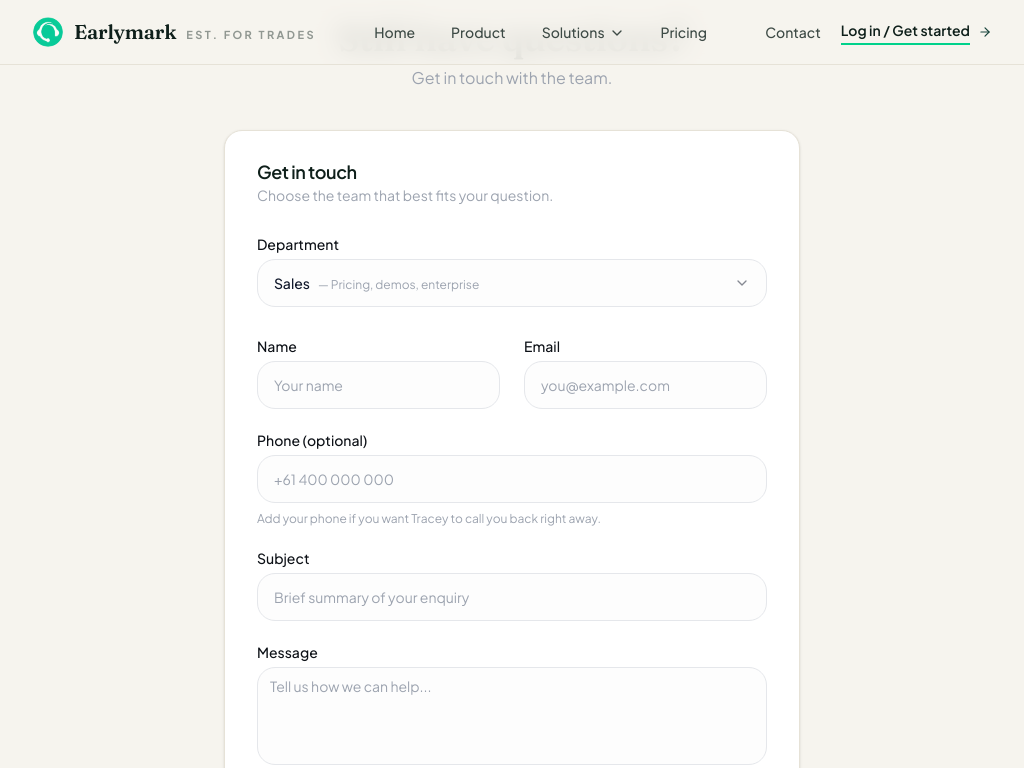
pricing contact form › shows request errors on the pricing-page form
(page scrolled)
In the field labelled "Name": [378, 385] box [257, 361, 500, 409], type "Miguel Wu"
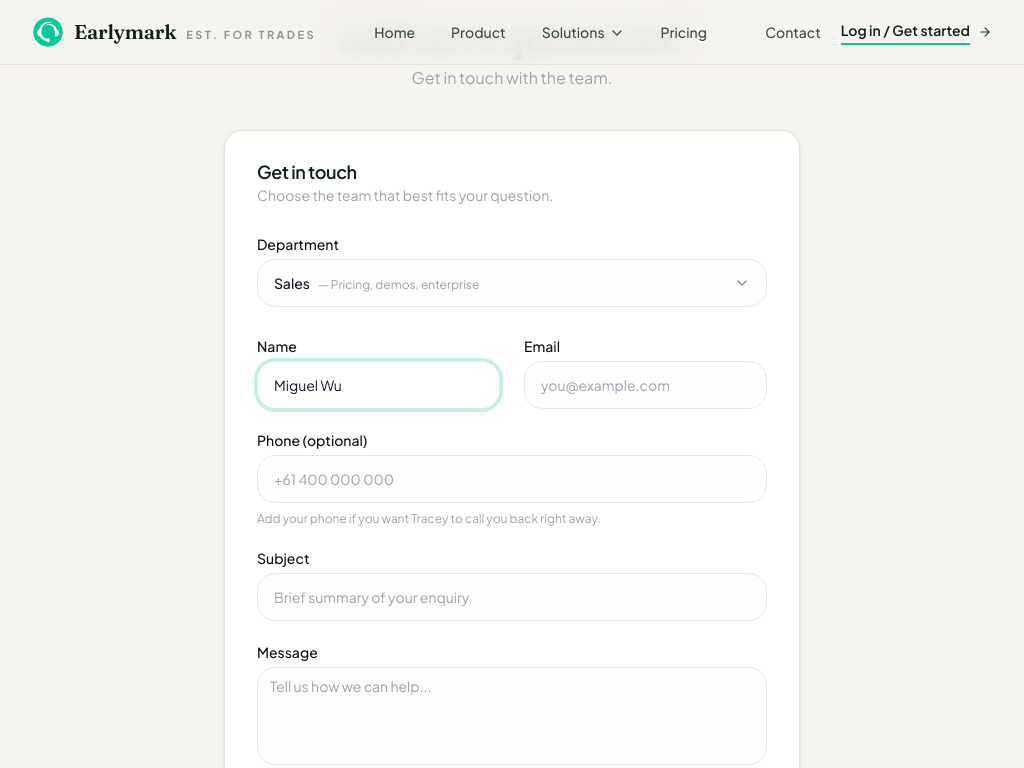
In the field labelled "Email": [646, 385] box [524, 361, 767, 409], type "miguel@example.com"
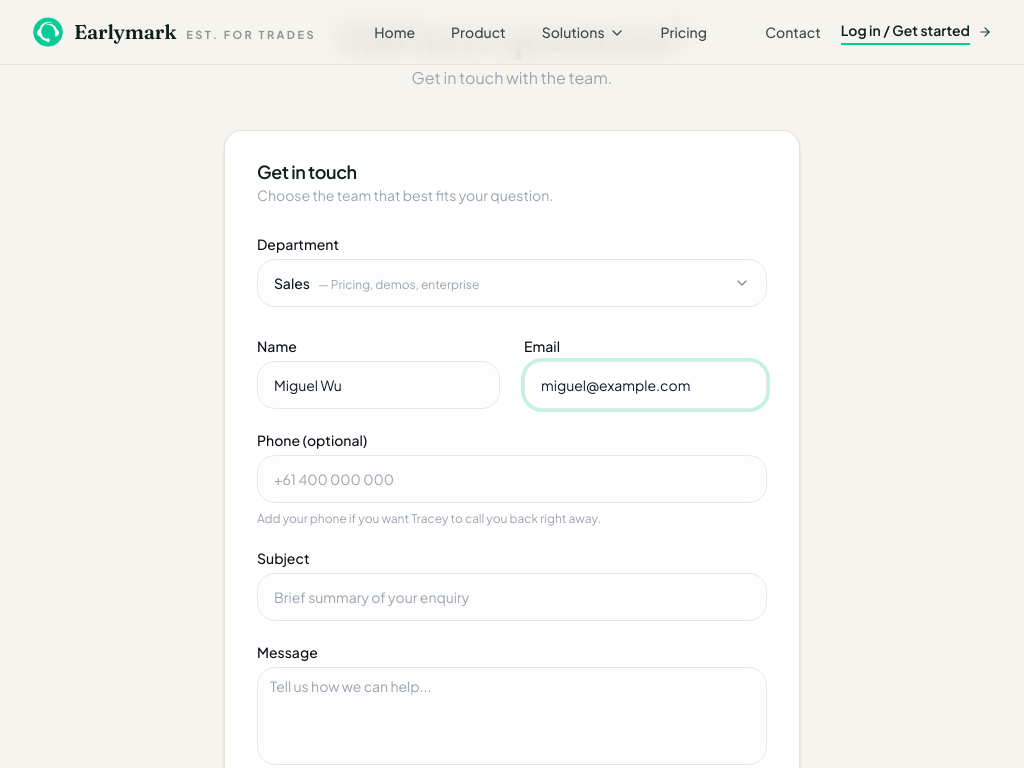
In the field labelled "Subject": [512, 597] box [257, 573, 767, 621], type "Need pricing"
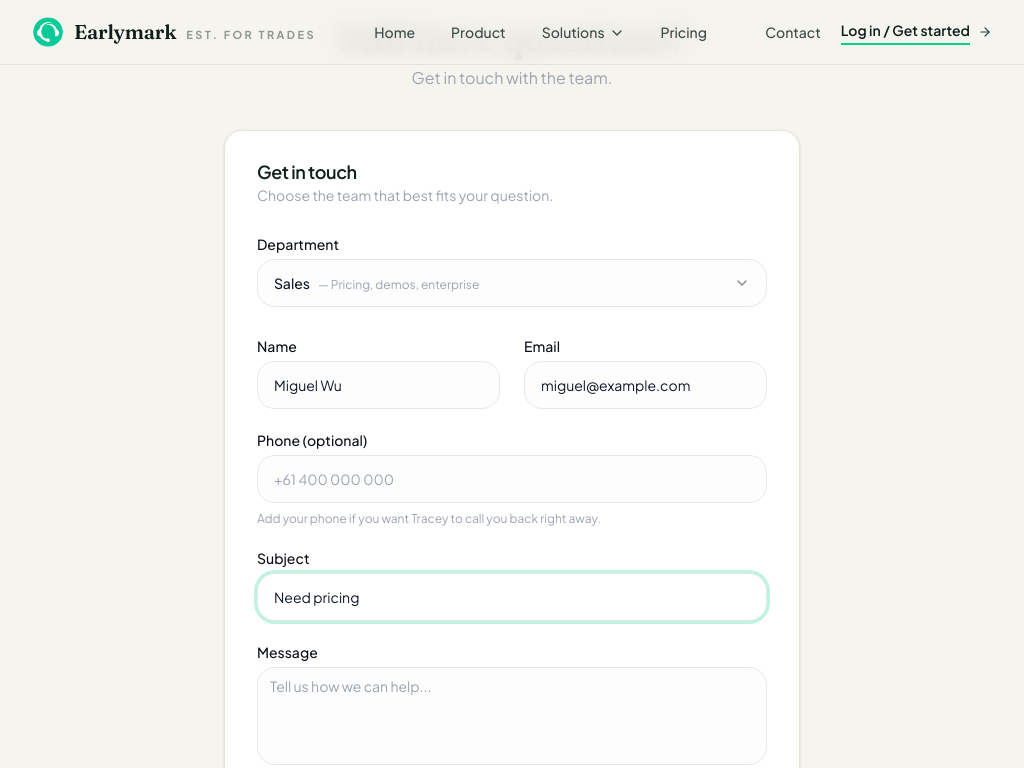
In the text box labelled "Message": [512, 716] box [257, 667, 767, 765], type "Please get Tracey to call me."
(page scrolled)
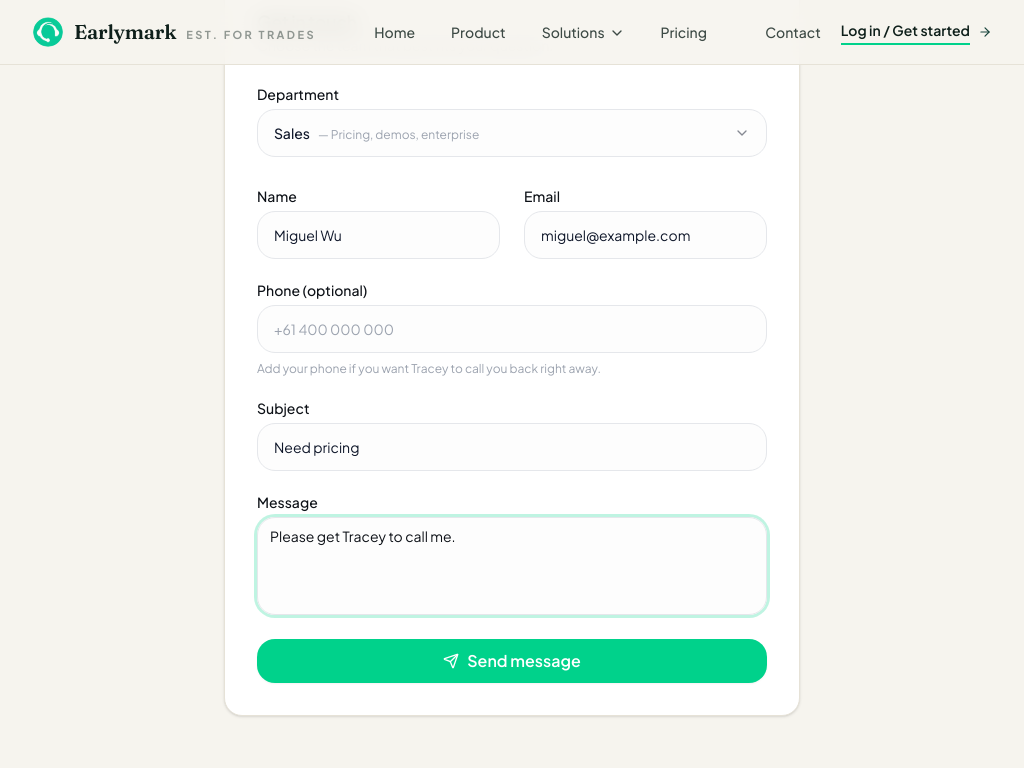
Submit the form, box [257, 87, 767, 683]
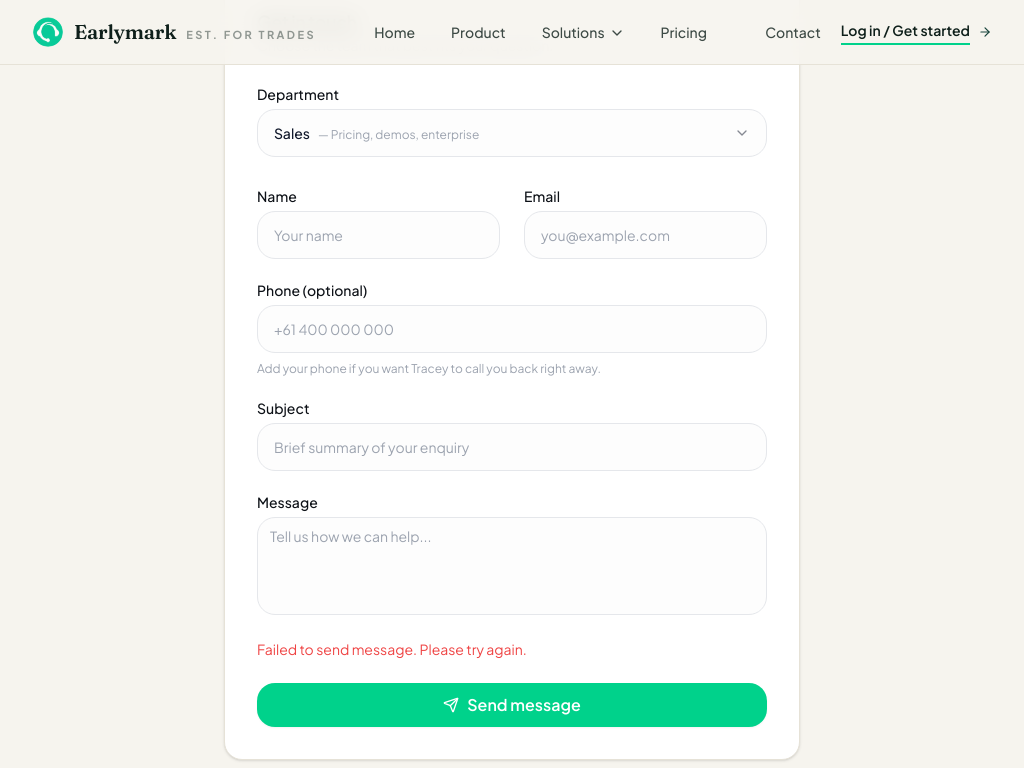
Check: the text "Failed to send message. Please try again." is shown, box [257, 640, 527, 658]
